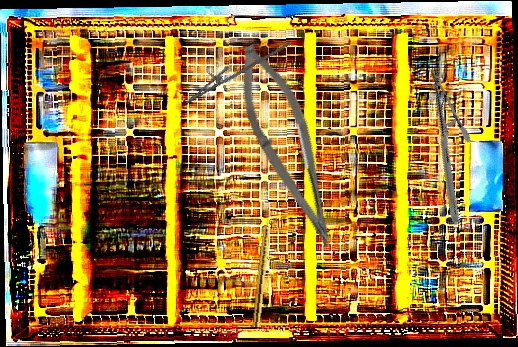Handpiece: (252, 212, 274, 328)
Micro Scissor: (217, 36, 361, 255)
Needle Holder: (371, 66, 518, 223), (179, 22, 292, 117)
